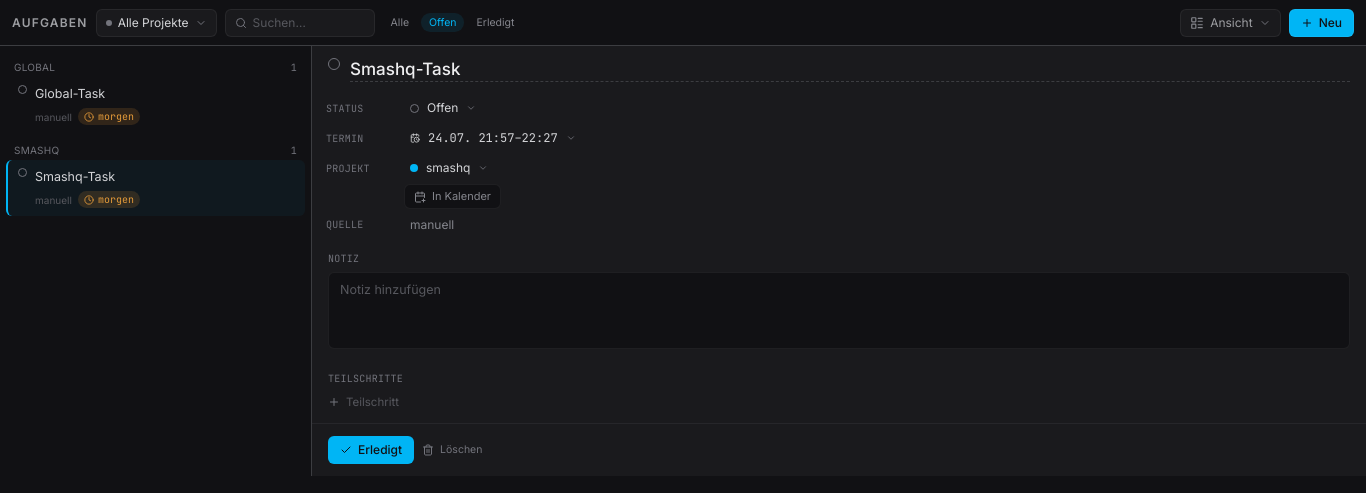
Test: TasksView — project scope filter › shows all projects by default and filters to the chosen one
expect the text "Smashq-Task" is shown: met, box [35, 168, 115, 185]
expect the text "Global-Task" is shown: met, box [35, 85, 105, 102]
# Open the scope dropdown and pick the Smashq project.
Click the button "Alle Projekte". click: (156, 23)
box: [96, 9, 217, 37]
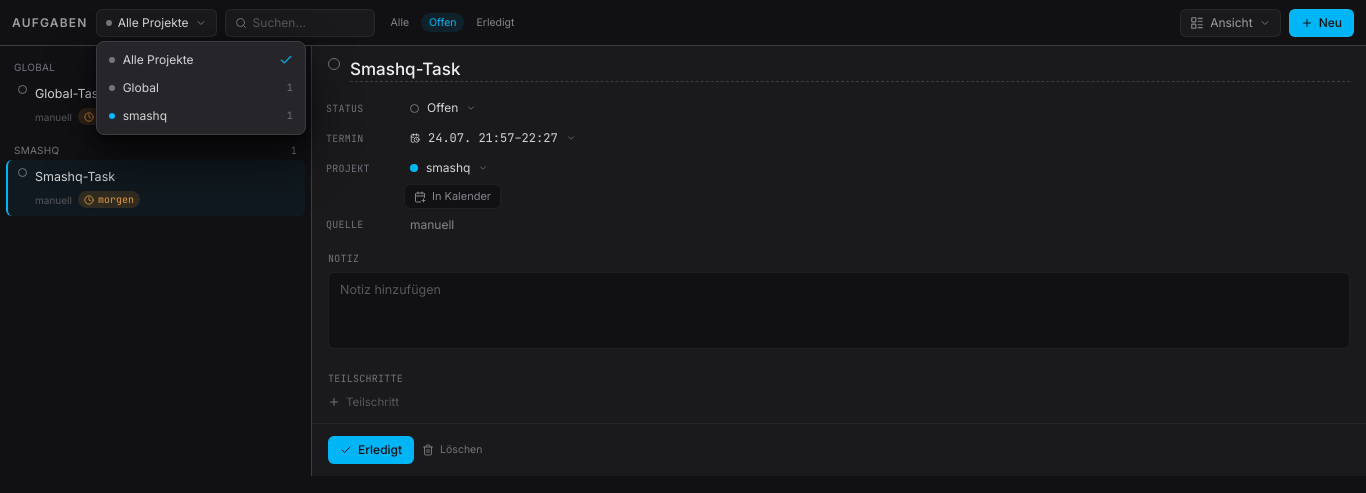
Click the option "smashq 1". click: (201, 116)
box: [101, 102, 301, 130]
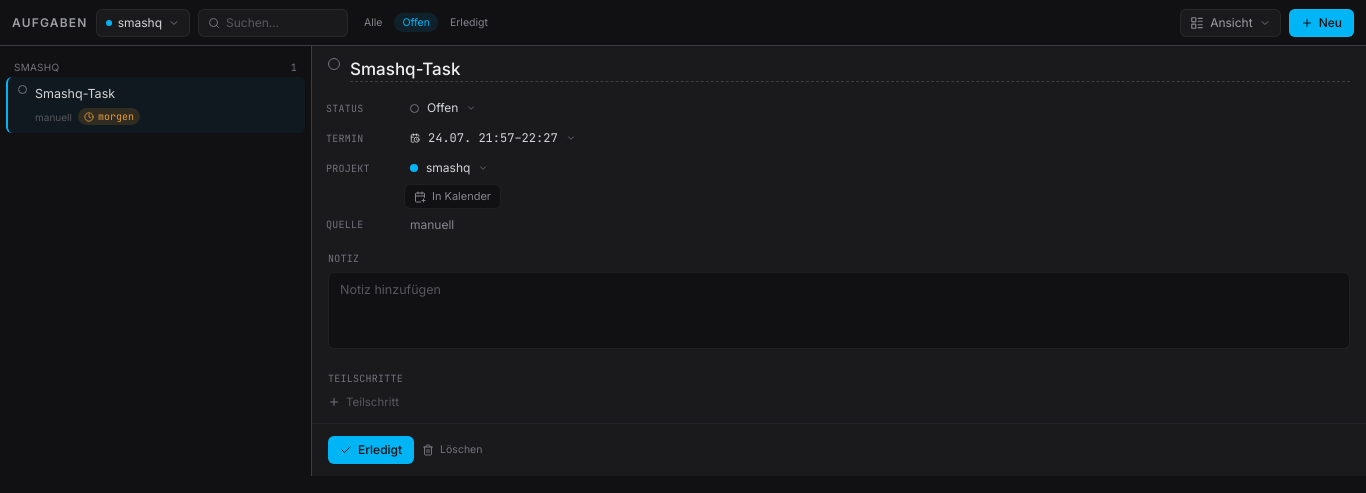
expect the text "Smashq-Task" is shown: met, box [35, 85, 115, 102]
expect the button "Global-Task" is gone: met
